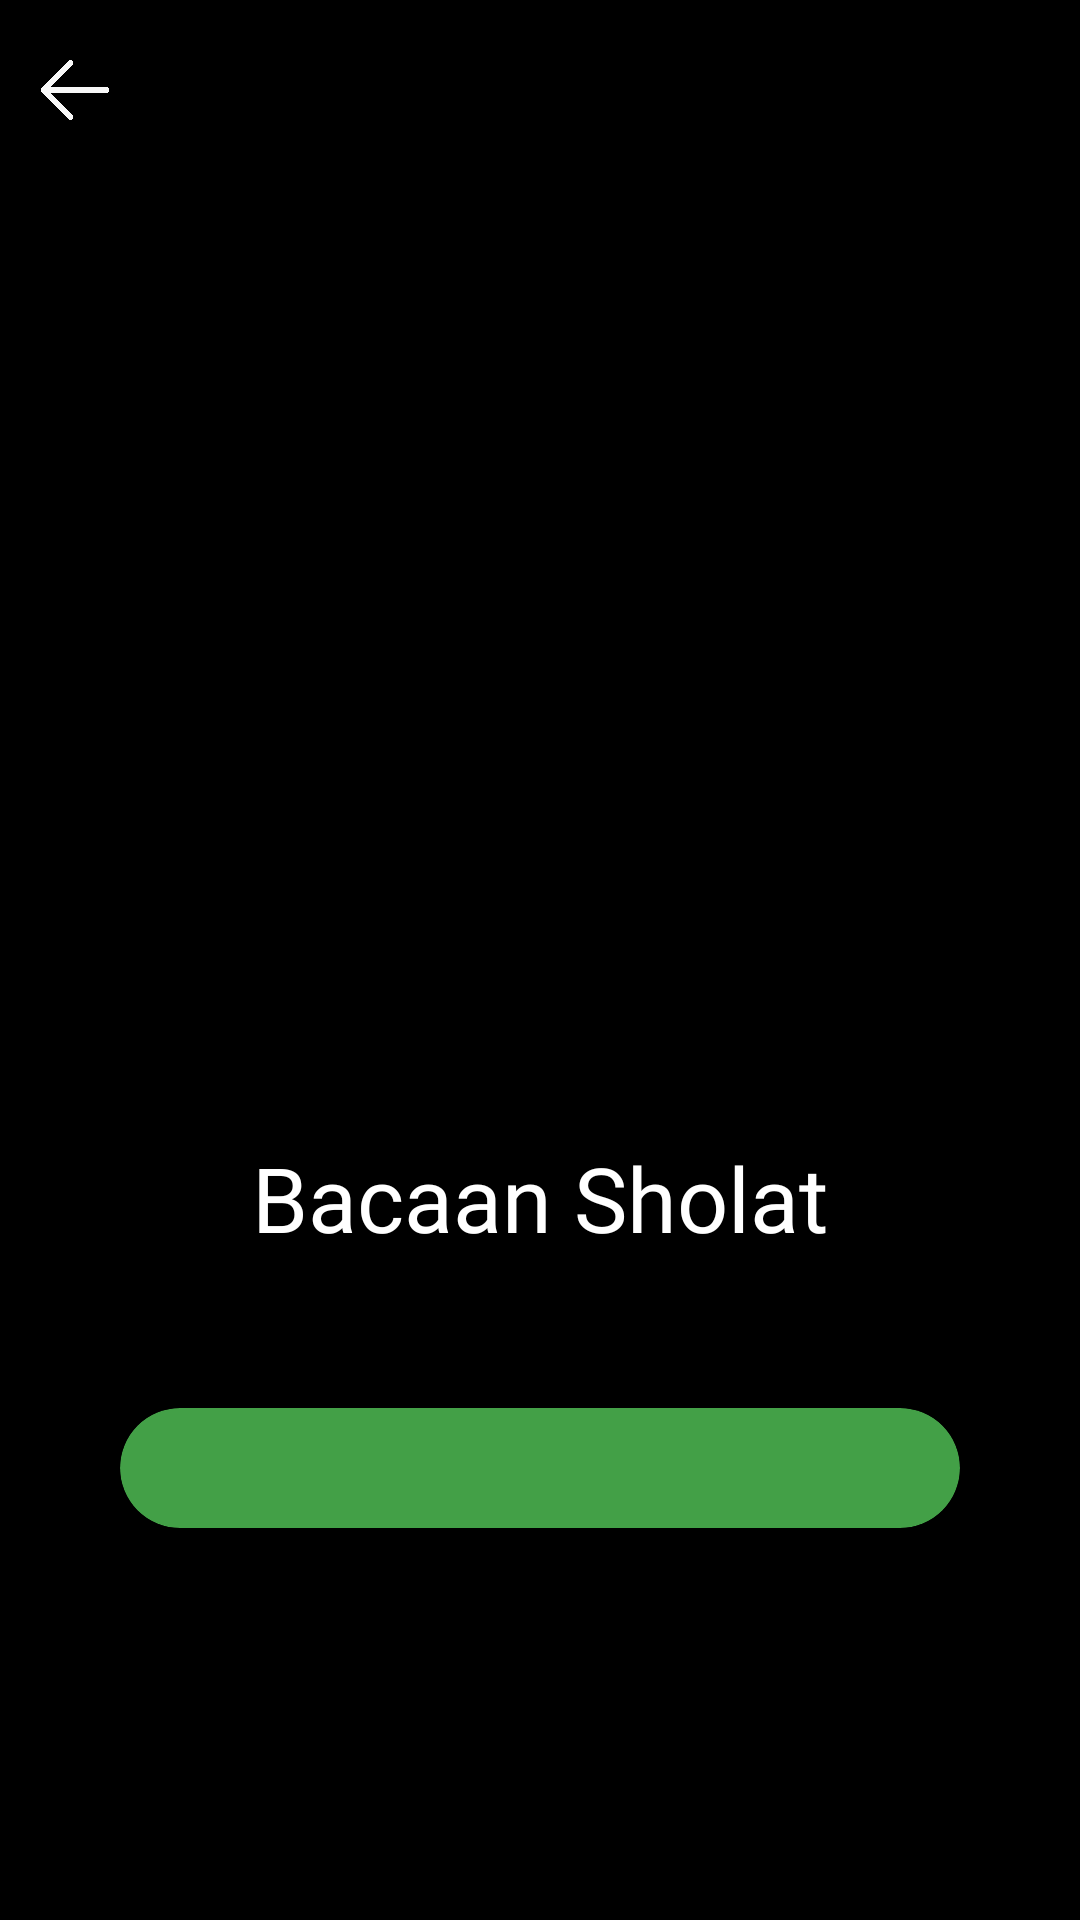

Where to tap for icons on this 1080*1920 app screen, as [x,y]:
tombolback: [75,90]
